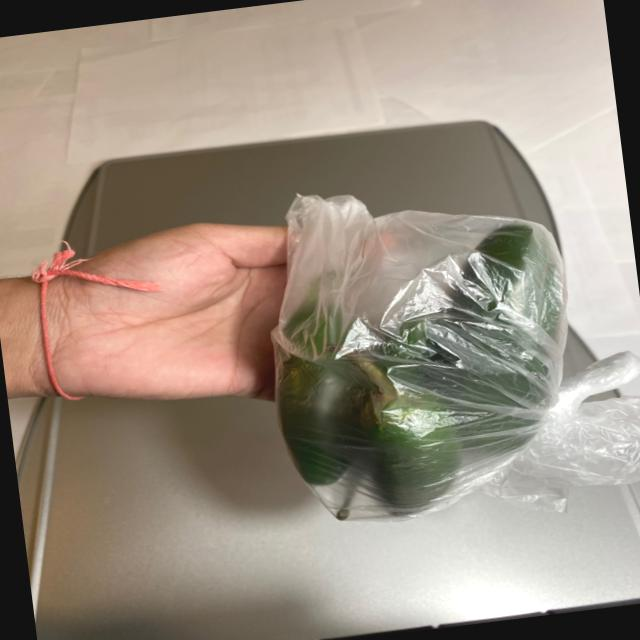chilli: (258, 215, 584, 534)
